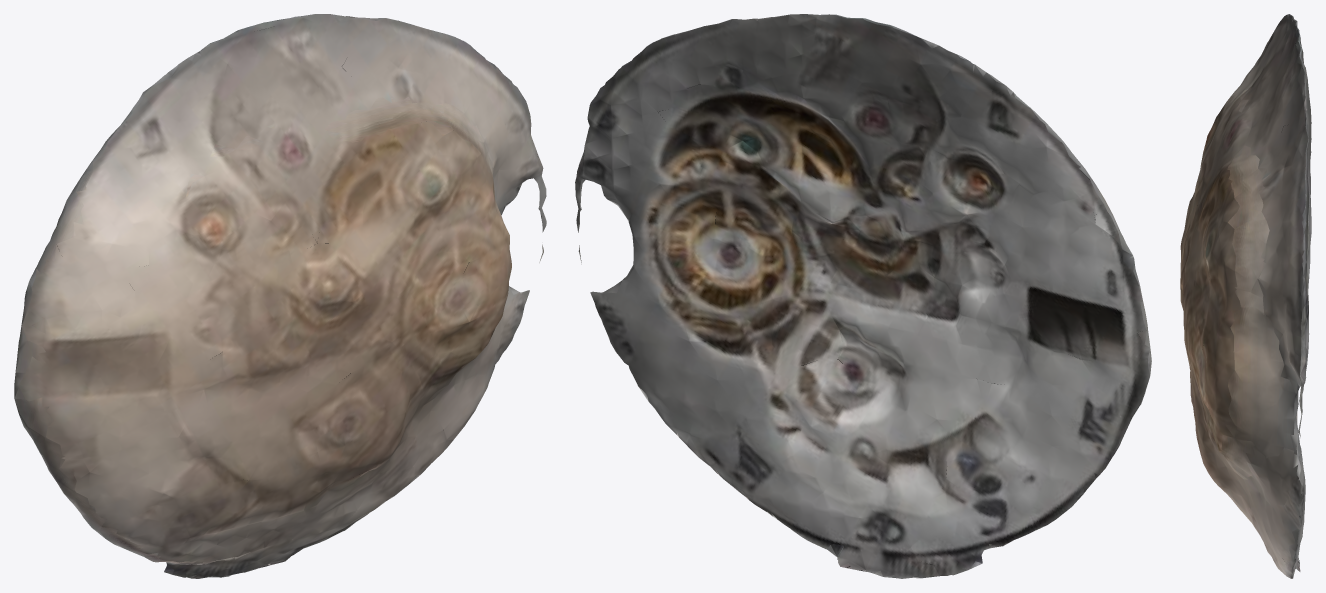
The model's file is 10_48_24_20_mechanical-timepiece-with-rotating-pictograms.glb.
3 renders of one model, left to right at view 1: azimuth 30°, elevation 25°; view 2: azimuth 150°, elevation 25°; view 3: azimuth 270°, elevation 25°, orthographic. The views are drawn at different scales.
Parts seen in each view (by area): view 1: world; view 2: world; view 3: world.
Part boxes in pixels (x1=…): world: x1=14, y1=14, x2=546, y2=578; world: x1=575, y1=14, x2=1151, y2=578; world: x1=1180, y1=14, x2=1311, y2=578.
Size of the model in its own units: 0.8405 by 0.7969 by 0.1815.
Materials: 1 (1 with a texture image).
